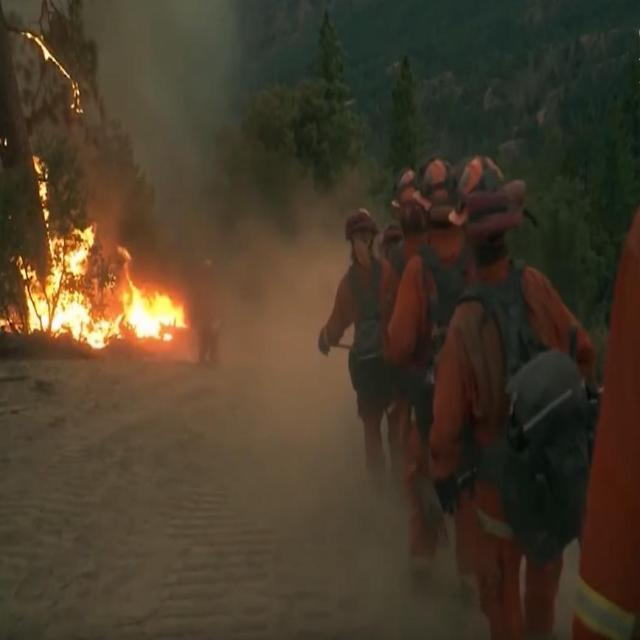Fire: (1, 150, 190, 352), (15, 30, 84, 115)
Smoke: (84, 1, 490, 637)
